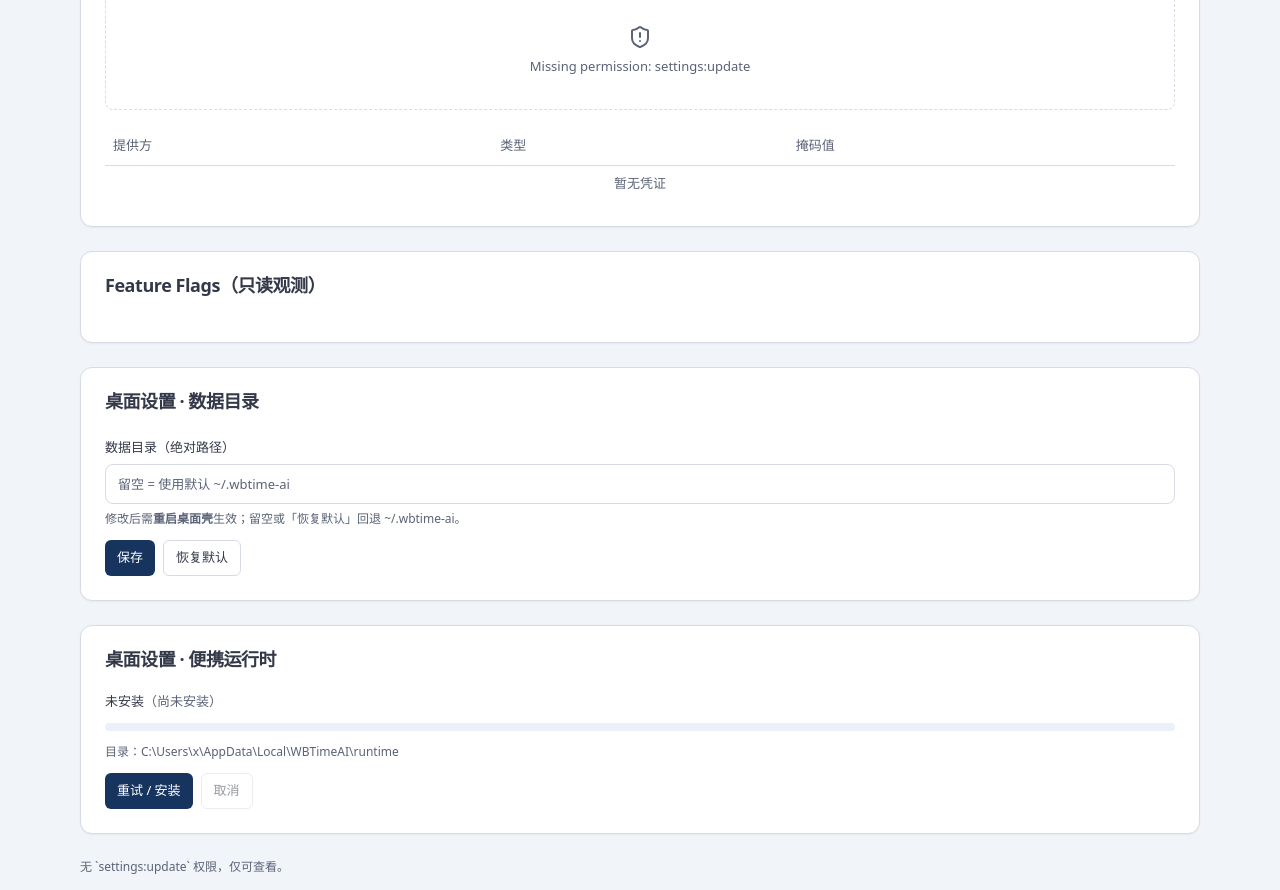
Settings · 桌面数据目录 Card › 主进程拒绝：setSettings 抛错 → 回显主进程校验未通过
(page scrolled)
Type "D:\\NoPerm" into the field with test id "desktop-data-dir-input" at (640, 484), box [105, 464, 1175, 504]
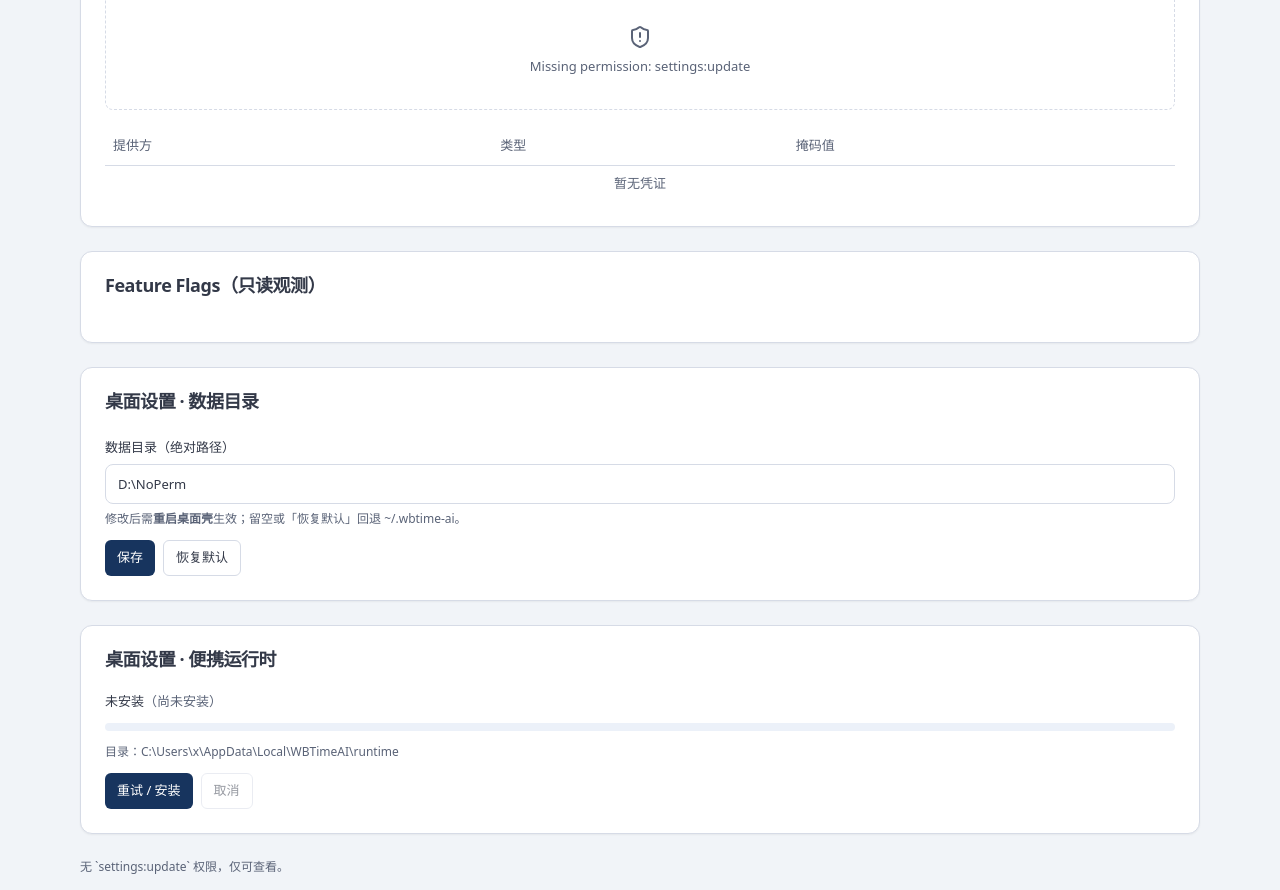
Click the button with test id "desktop-data-dir-save" at (130, 558), box [105, 540, 155, 576]
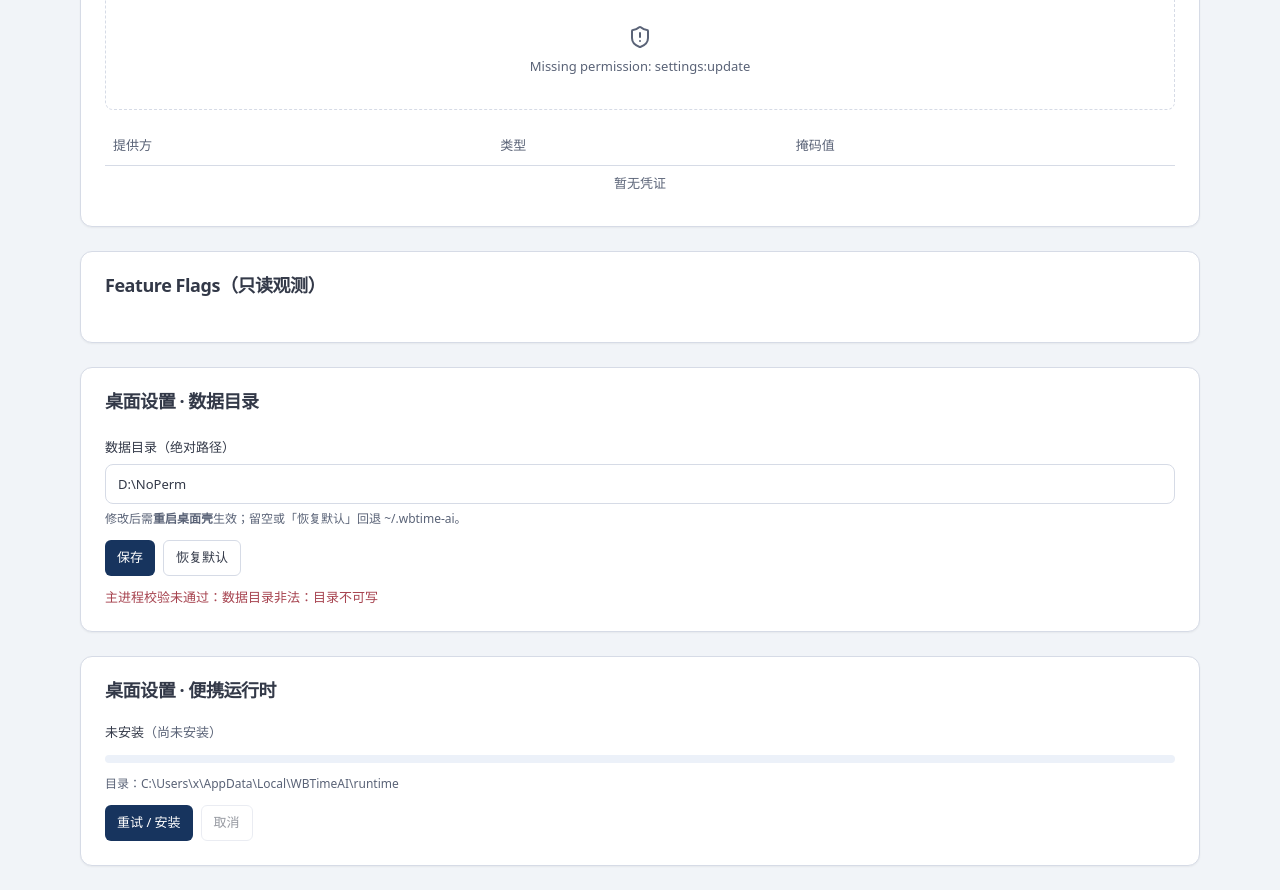
Check: the text with test id "desktop-data-dir-error" reads "主进程校验未通过：数据目录非法：目录不可写", box [105, 588, 378, 606]
